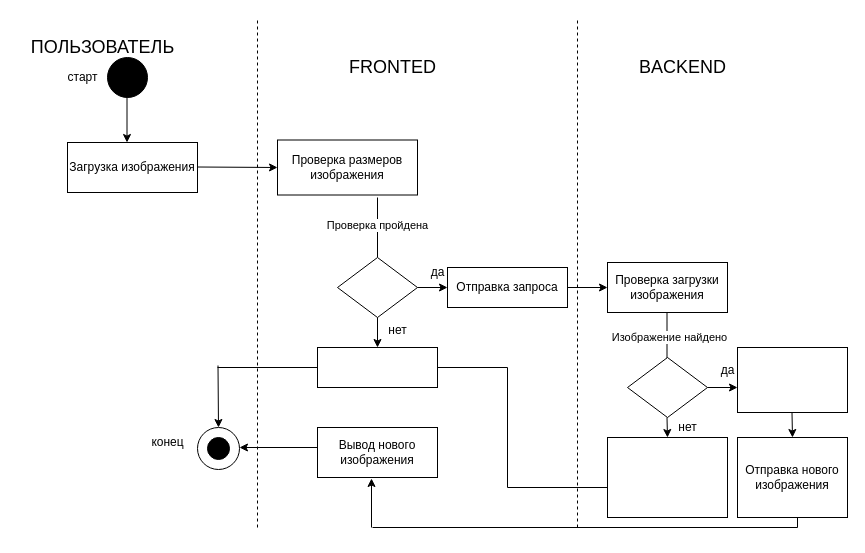
This 865x553 diagram has some shape labels left out. Here are the shapes that lost their labels. From the top down, the box of each, then its label:
(316, 346, 438, 388): Вывод сообщения об ошибке
(736, 346, 848, 412): Поворот изображения на 90 градусов по соответствию
(606, 436, 728, 518): Отправка уведомления с просьбой сначала загрузить изображение
